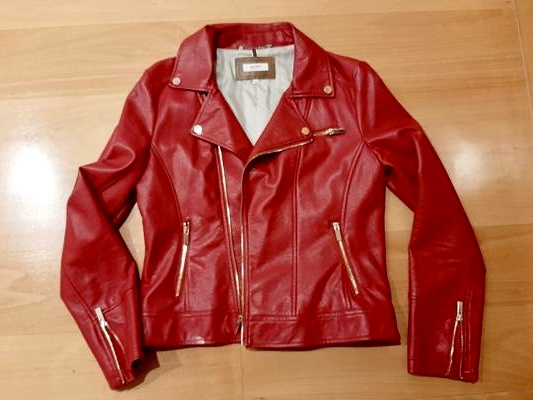Blazer: (23, 24, 497, 392)
